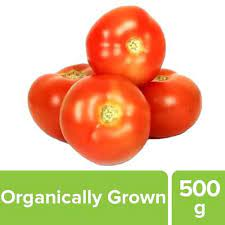tomato: (56, 74, 160, 159), (90, 6, 157, 79)
